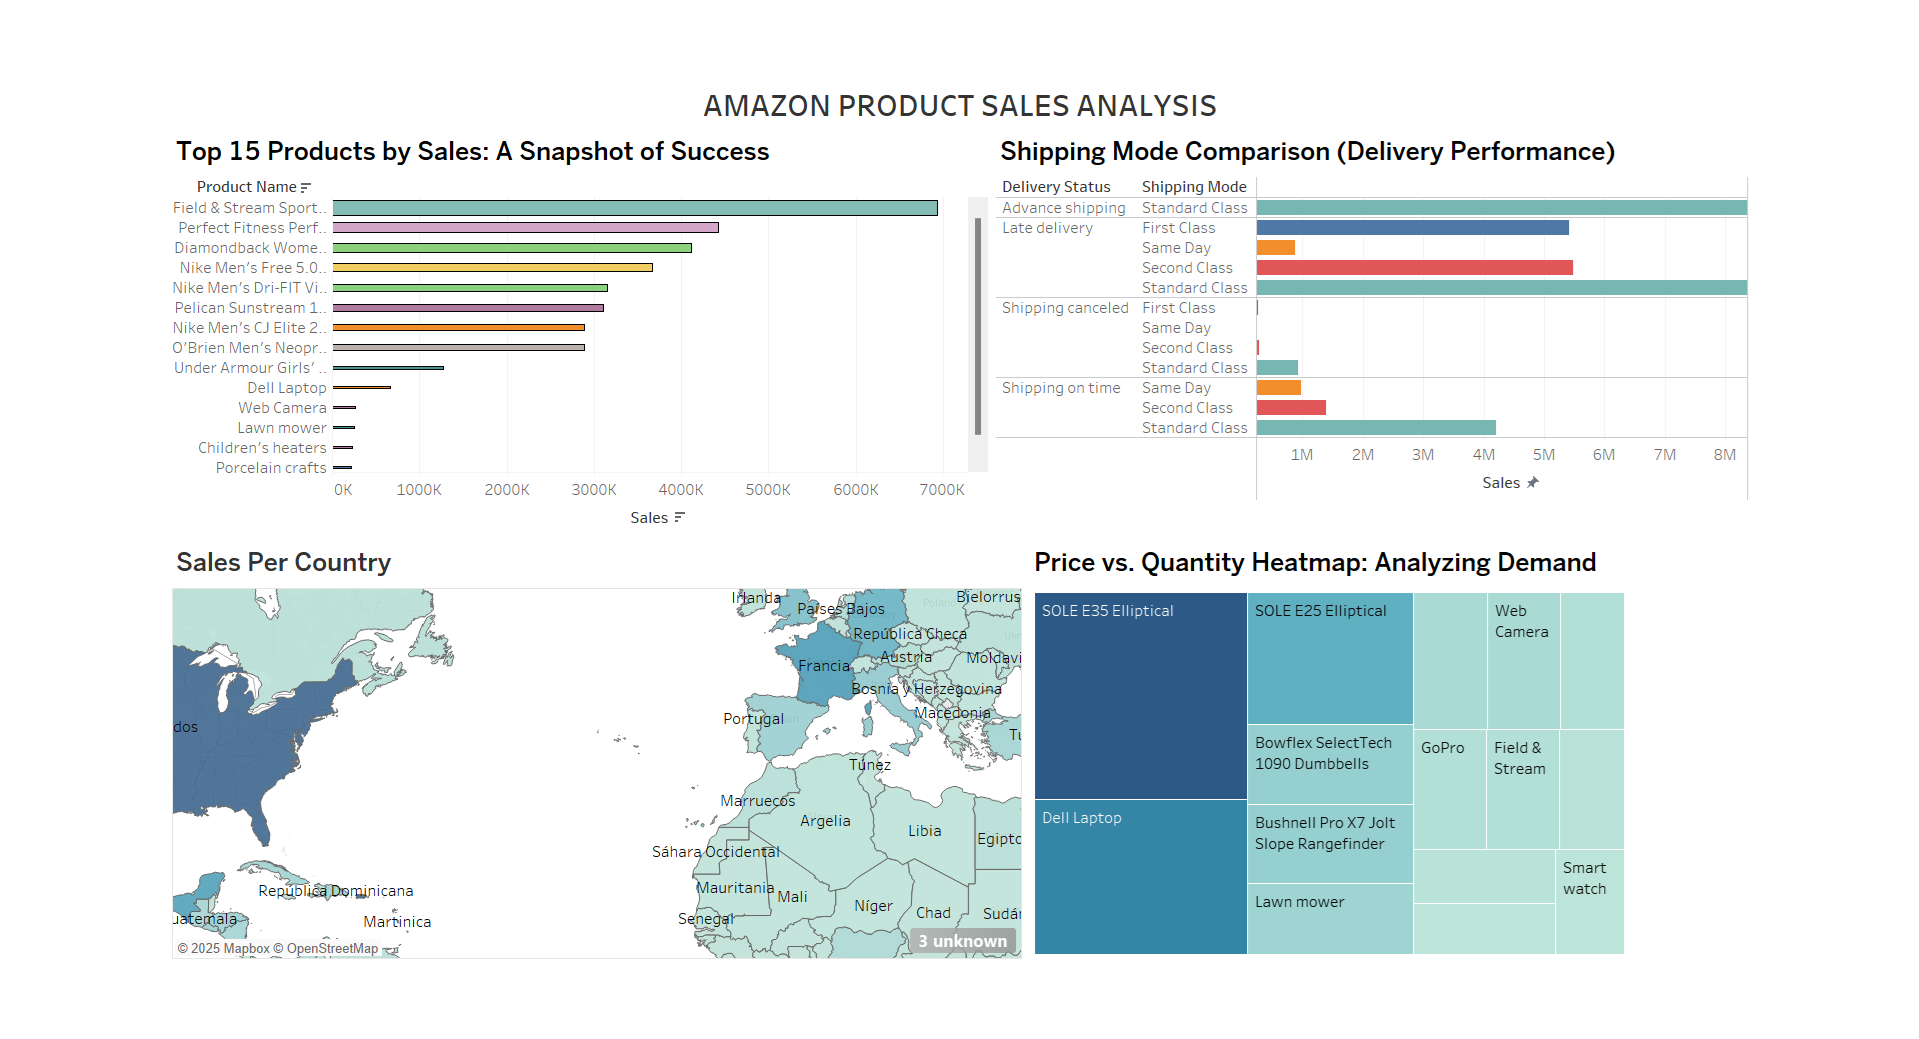

The page's visual inventory and layout, read from the dashboard file:
{"tool":"tableau","page":{"name":"Dashboard 1","canvas":[1600,900],"ordinal":0},"visuals":[{"type":"title","box":[8,8,1584,49]},{"type":"worksheet","title":"Sheet 1","mark":"Automatic","rows":["Product Name"],"cols":["Sales"],"box":[8,57,824,411]},{"type":"worksheet","title":"Sheet 4","mark":"Automatic","rows":["Delivery Status","Shipping Mode"],"cols":["Sales"],"box":[832,57,760,411]},{"type":"worksheet","title":"Sheet 3","mark":"Automatic","box":[8,468,858,424]},{"type":"worksheet","title":"Sheet 2","mark":"Automatic","box":[866,468,726,424]}]}

Visuals, with their boxes on the page's 1600x900 design canvas (x1, y1, x2, y2). These are canvas units, not pixel positions in the 1919x1039 screenshot, which may show the page scaled, cropped or inside an application window:
title: 8:8:1592:57
"Sheet 1" worksheet: 8:57:832:468
"Sheet 4" worksheet: 832:57:1592:468
"Sheet 3" worksheet: 8:468:866:892
"Sheet 2" worksheet: 866:468:1592:892
